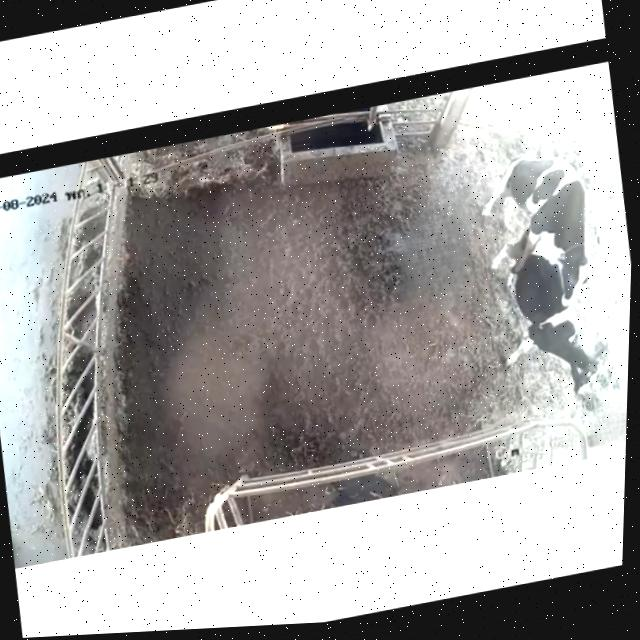ride: (467, 136, 615, 322)
stand: (492, 234, 617, 413)
